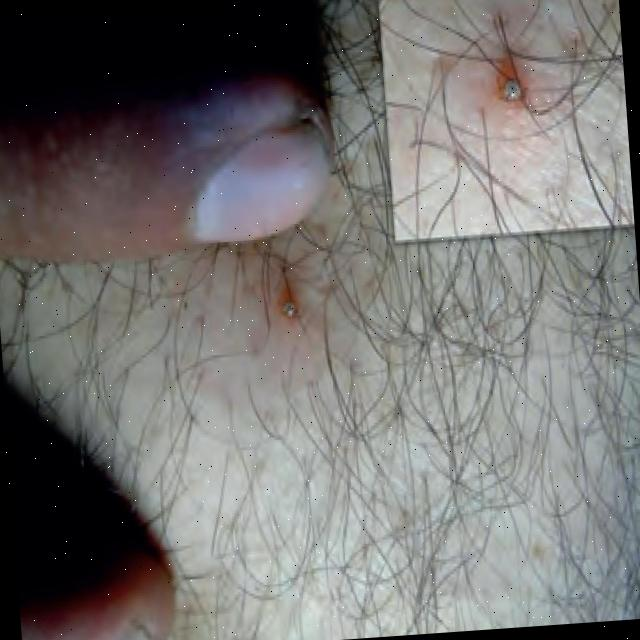kene: (477, 24, 549, 131), (264, 262, 313, 335)
